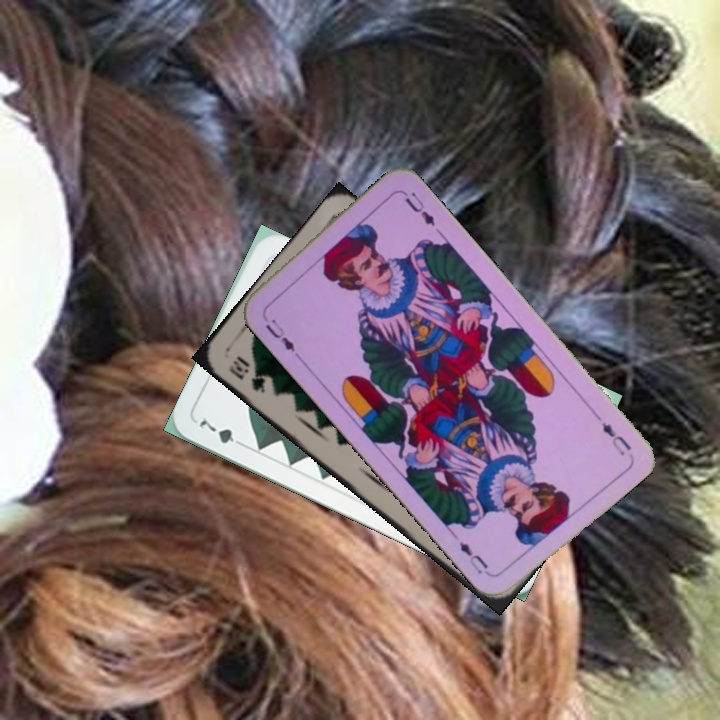EU: (259, 311, 302, 360), (597, 418, 635, 459)
G10: (224, 351, 268, 396)
G7: (195, 413, 249, 451)
